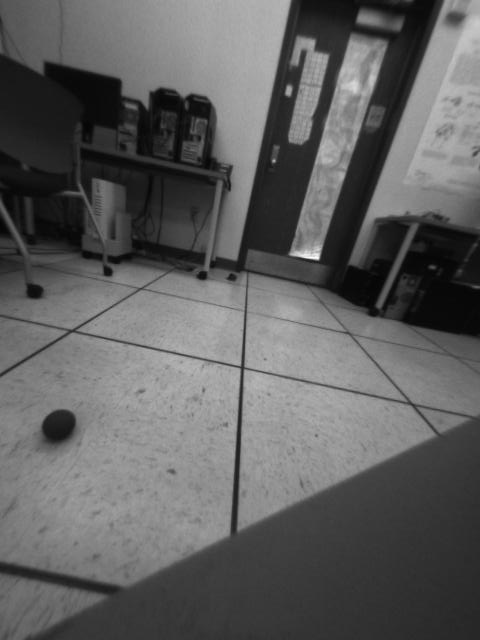dogtoy: (35, 404, 80, 446)
